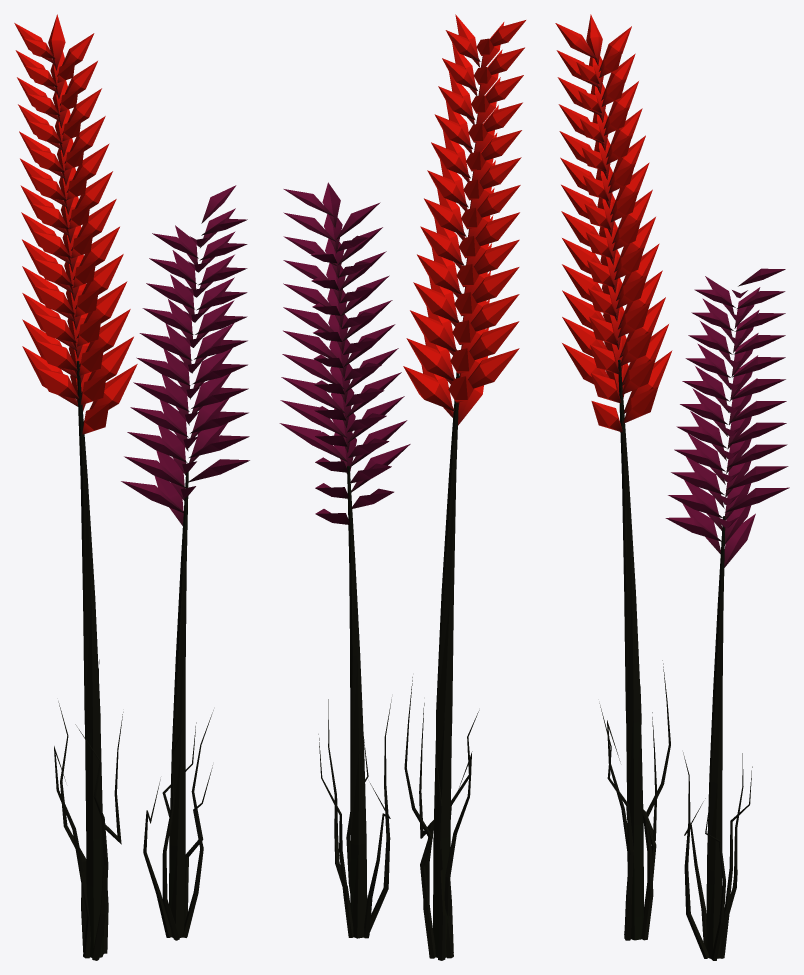
The model's file is Plant-4.fbx.
3 views of the same model, side by side, from view 1: azimuth 30°, elevation 25°; view 2: azimuth 150°, elevation 25°; view 3: azimuth 330°, elevation 25° (orthographic). The views are drawn at different scales.
Visible parts, largest first — view 1: file4; view 2: file4; view 3: file4.
Part boxes in pixels (box(x1,y1,x2,y2)): file4: box(14, 14, 249, 960); file4: box(279, 14, 525, 960); file4: box(555, 14, 789, 960).
Bounding box in the file's own units: 0.2795 × 1.1 × 0.1368.
